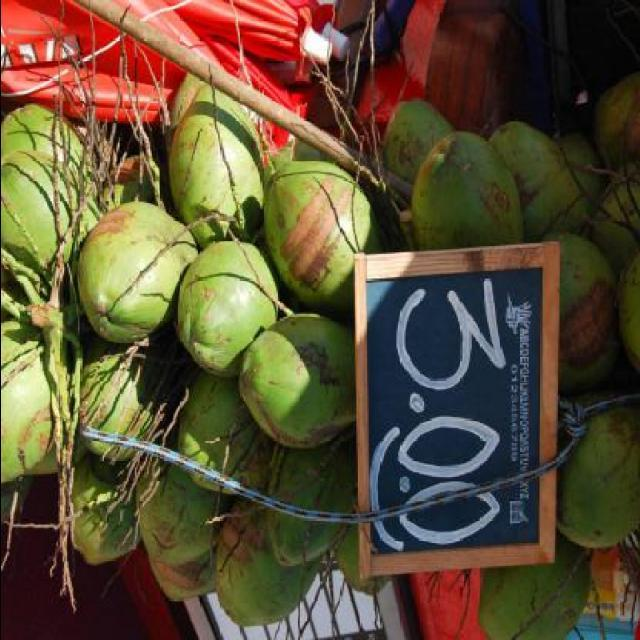Coconut: (0, 71, 640, 640)
